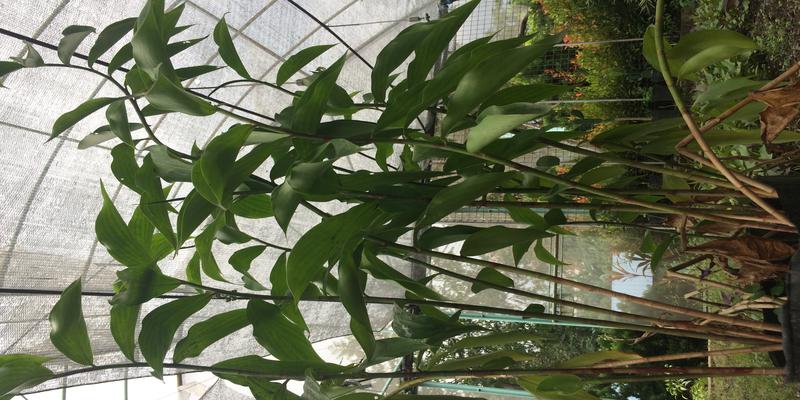Insulin: (122, 84, 740, 389)
